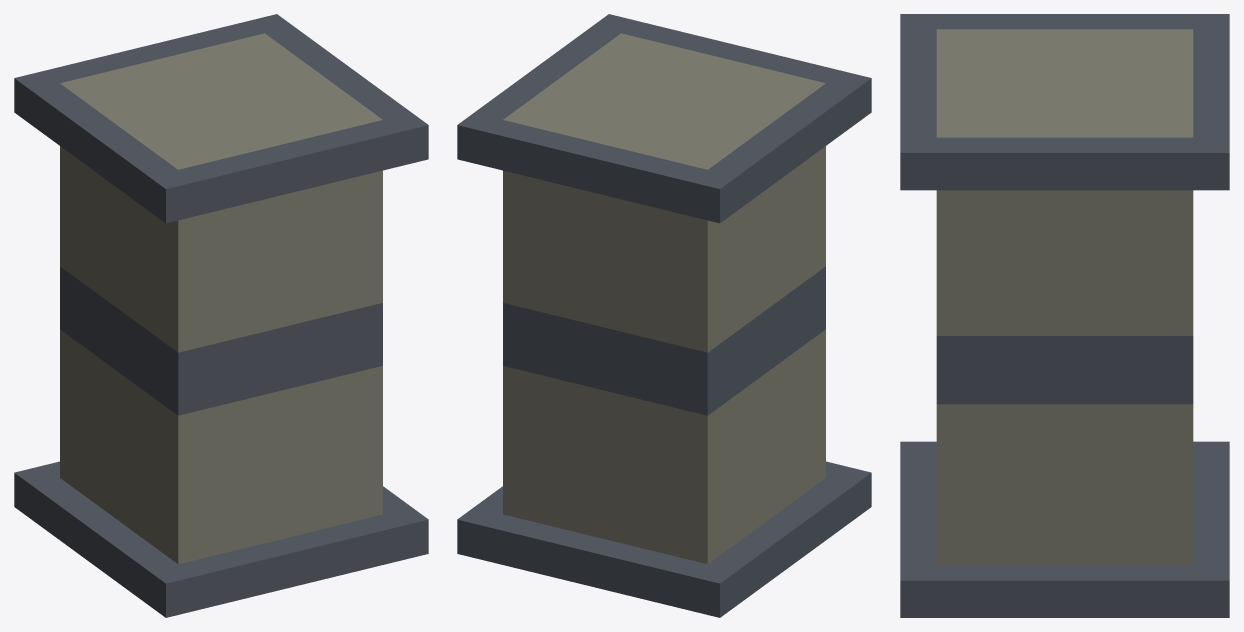
File: vent1.FBX
3 renders of one model, left to right at view 1: azimuth 30°, elevation 25°; view 2: azimuth 150°, elevation 25°; view 3: azimuth 270°, elevation 25°, orthographic. The views are drawn at different scales.
Visible parts, largest first — view 1: vent1; view 2: vent1; view 3: vent1.
Boxes of the visible parts, left/top/right/bottom form: vent1: left=14, top=14, right=428, bottom=617; vent1: left=457, top=14, right=871, bottom=617; vent1: left=900, top=14, right=1229, bottom=617.
Size of the model in its own units: 1.28 by 2 by 1.28.
